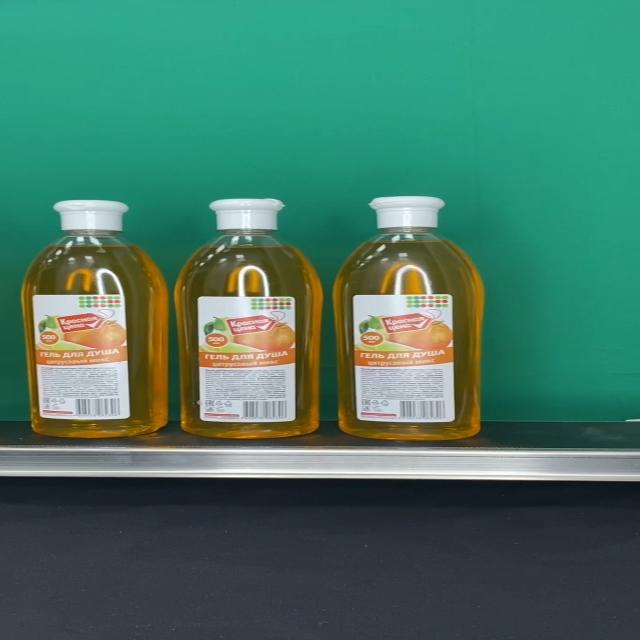Bottle: (333, 195, 485, 440), (175, 197, 324, 438), (20, 198, 169, 438)
Cap: (207, 198, 285, 230), (54, 199, 130, 231), (368, 196, 444, 228)
